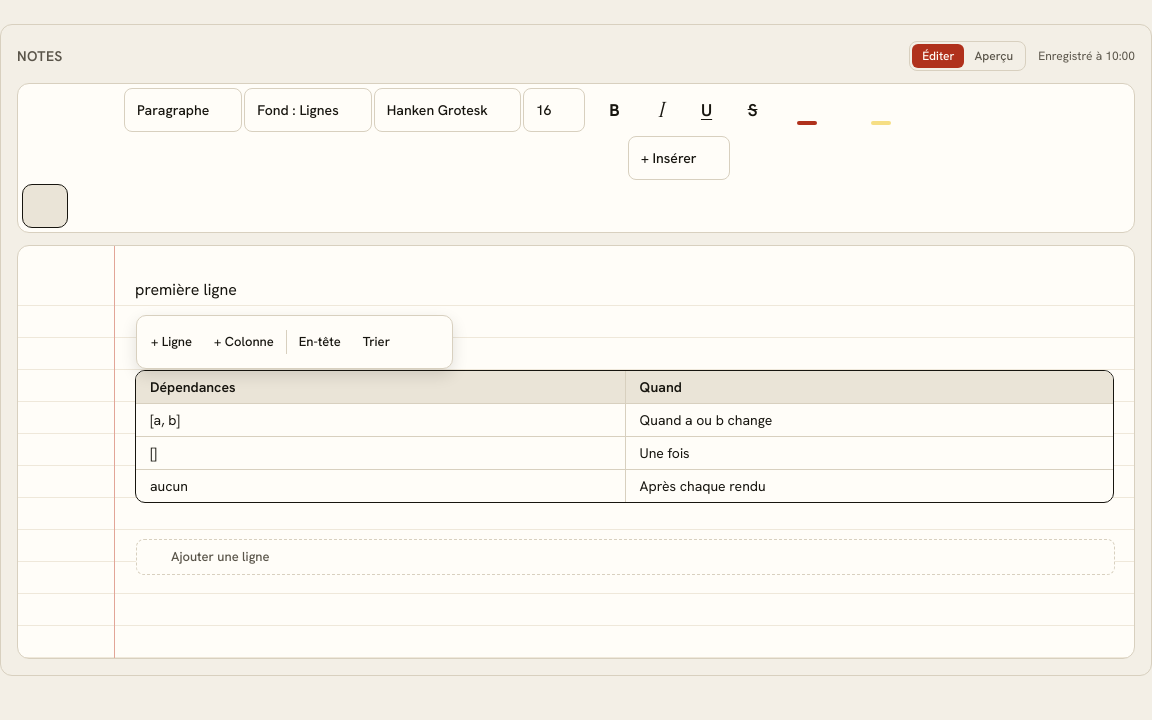
Scenario: tables in a note (YC-51) › its bar, Figma 65:2071 › « Supprimer le tableau » removes it, and its bar with it
Expected: the field named "Note de la vidéo" shows "première", [135,279,1114,503]
Click the button named "Supprimer le tableau" at (425, 342), box [402,320,448,364]
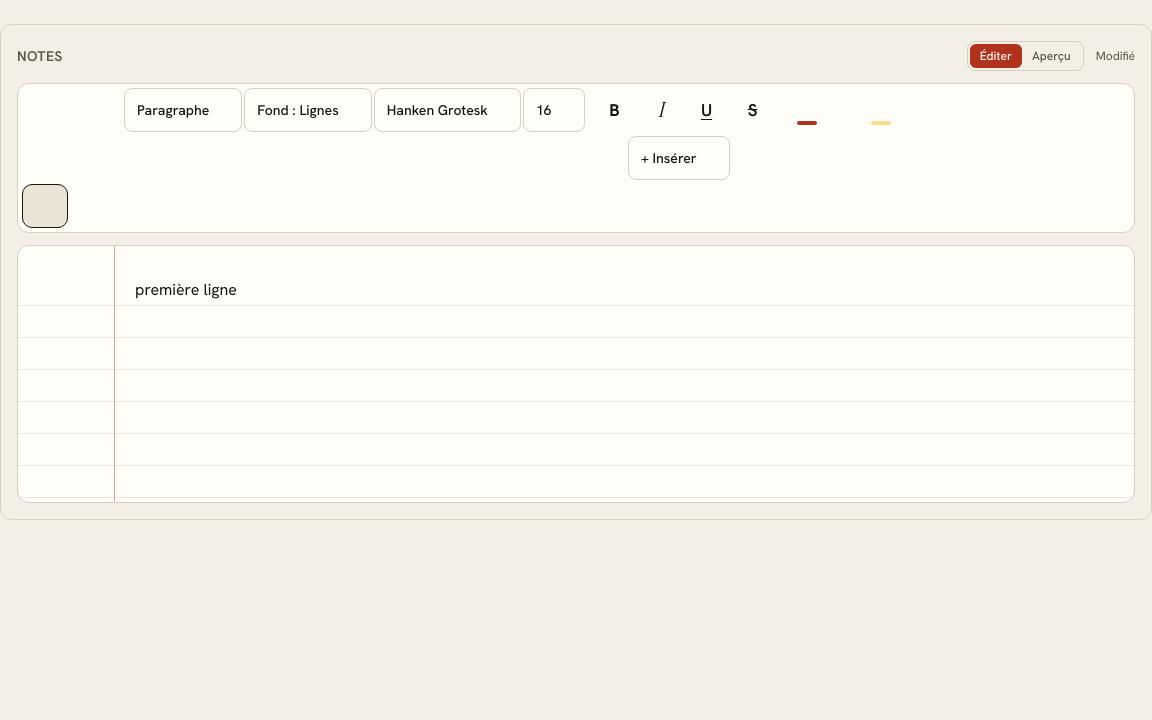
Now the button "Tableau" is gone
